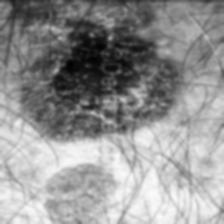Potentially Malignant Skin Tumors: (27, 10, 181, 136)
